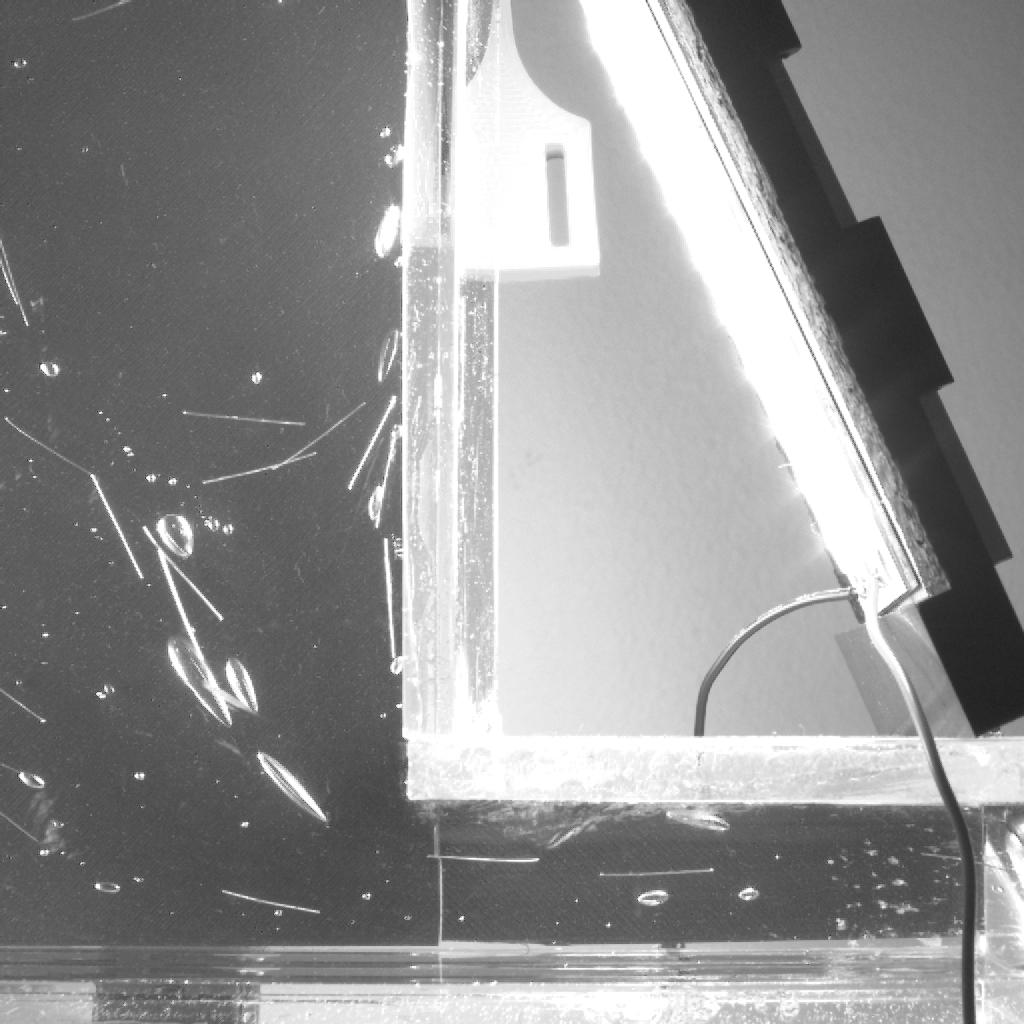Fiber: (155, 547, 219, 691), (138, 522, 225, 620), (88, 464, 145, 580), (274, 402, 368, 472), (5, 416, 95, 476), (345, 392, 399, 490), (206, 448, 319, 485), (223, 886, 320, 917), (0, 238, 32, 329), (378, 423, 401, 532), (919, 850, 1015, 875), (380, 535, 398, 662), (183, 410, 302, 428), (598, 865, 716, 879), (0, 688, 44, 723), (2, 808, 41, 844), (75, 0, 130, 25), (424, 855, 542, 865), (0, 260, 21, 308), (0, 762, 34, 783)
